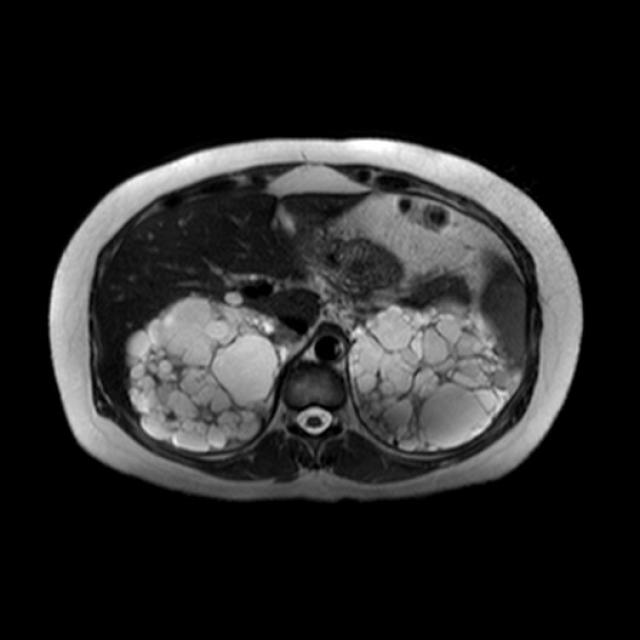sag: (127, 287, 293, 453)
sol: (348, 299, 520, 455)
